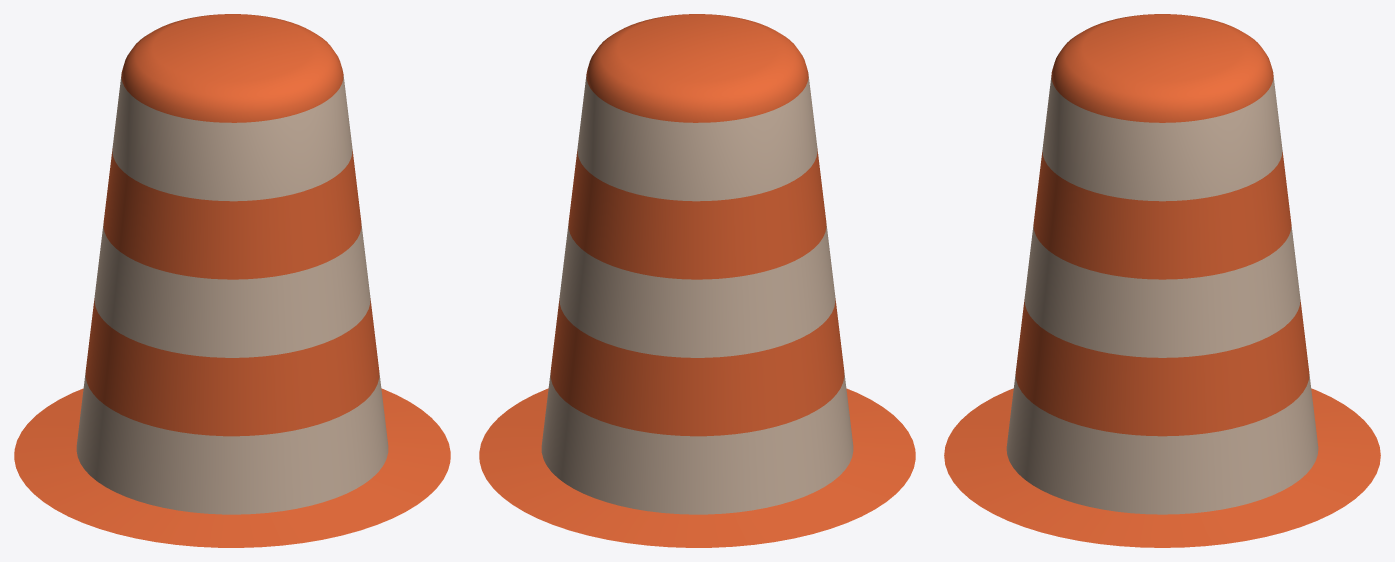
The picture shows the model from 3 angles, left to right: view 1: azimuth 30°, elevation 25°; view 2: azimuth 150°, elevation 25°; view 3: azimuth 270°, elevation 25°; orthographic projection.
Visible parts, largest first — view 1: Cone2; view 2: Cone2; view 3: Cone2.
Part boxes in pixels (x1,y1,x2,y2): Cone2: (14, 14, 450, 547); Cone2: (479, 14, 915, 547); Cone2: (944, 14, 1380, 547).
Bounding box in the file's own units: 44.8 × 46.15 × 44.8.
